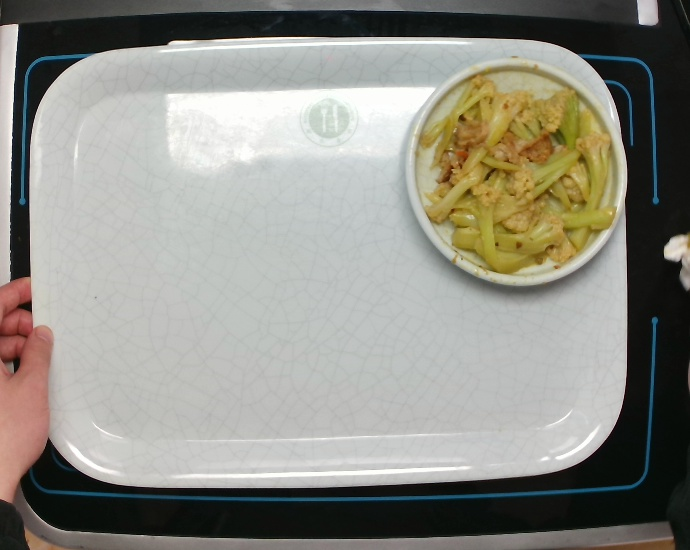JYsf-Xiao_Yuan_Pan: (393, 52, 633, 295)
